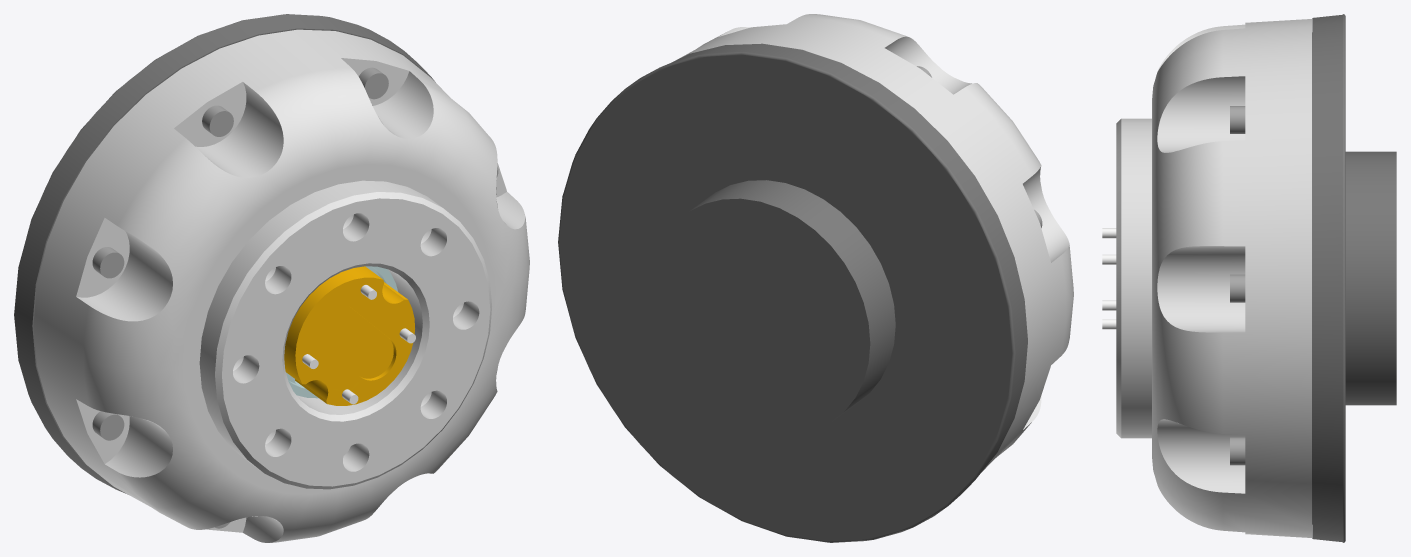
3 views of the same model, side by side, from view 1: azimuth 30°, elevation 25°; view 2: azimuth 150°, elevation 25°; view 3: azimuth 270°, elevation 25° (orthographic).
Visible parts, largest first — view 1: Grep1B14D08Apa01-16, Grep1B14D08Apa01-15, Grep1B14D08Apa01-20, Grep1B14D08Apa01-17, Grep1B14D08Apa01-19; view 2: Grep1B14D08Apa01-15, Grep1B14D08Apa01-16; view 3: Grep1B14D08Apa01-16, Grep1B14D08Apa01-15, Grep1B14D08Apa01-17, Grep1B14D08Apa01-19.
Part boxes in pixels (x1,y1,x2,y2): Grep1B14D08Apa01-16: (33,29,529,542); Grep1B14D08Apa01-15: (14,14,435,494); Grep1B14D08Apa01-20: (284,266,414,405); Grep1B14D08Apa01-17: (92,67,498,528); Grep1B14D08Apa01-19: (302,285,415,404); Grep1B14D08Apa01-15: (558,43,1027,542); Grep1B14D08Apa01-16: (679,14,1073,472); Grep1B14D08Apa01-16: (1116,19,1311,537); Grep1B14D08Apa01-15: (1312,14,1396,542); Grep1B14D08Apa01-17: (1230,106,1245,465); Grep1B14D08Apa01-19: (1102,228,1116,329).
Size of the model in its own units: 104 by 104 by 57.7.
